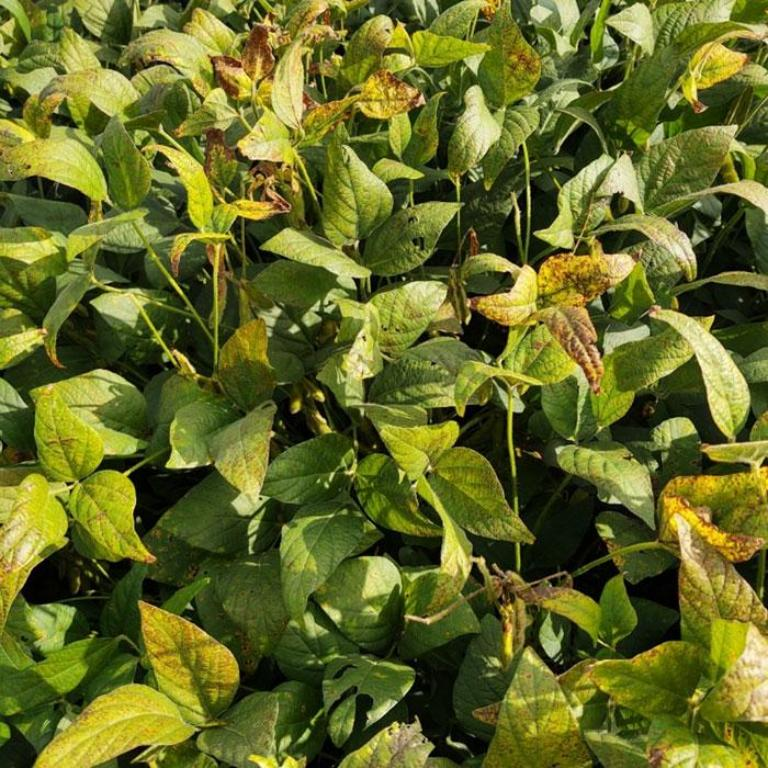blight: (537, 288, 603, 368), (210, 39, 274, 91)
